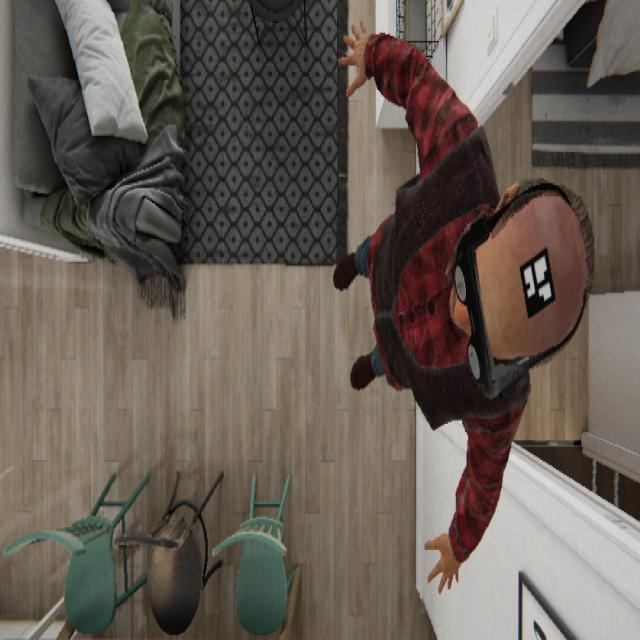AruCO: (519, 244, 556, 319)
Human: (332, 18, 594, 594)
